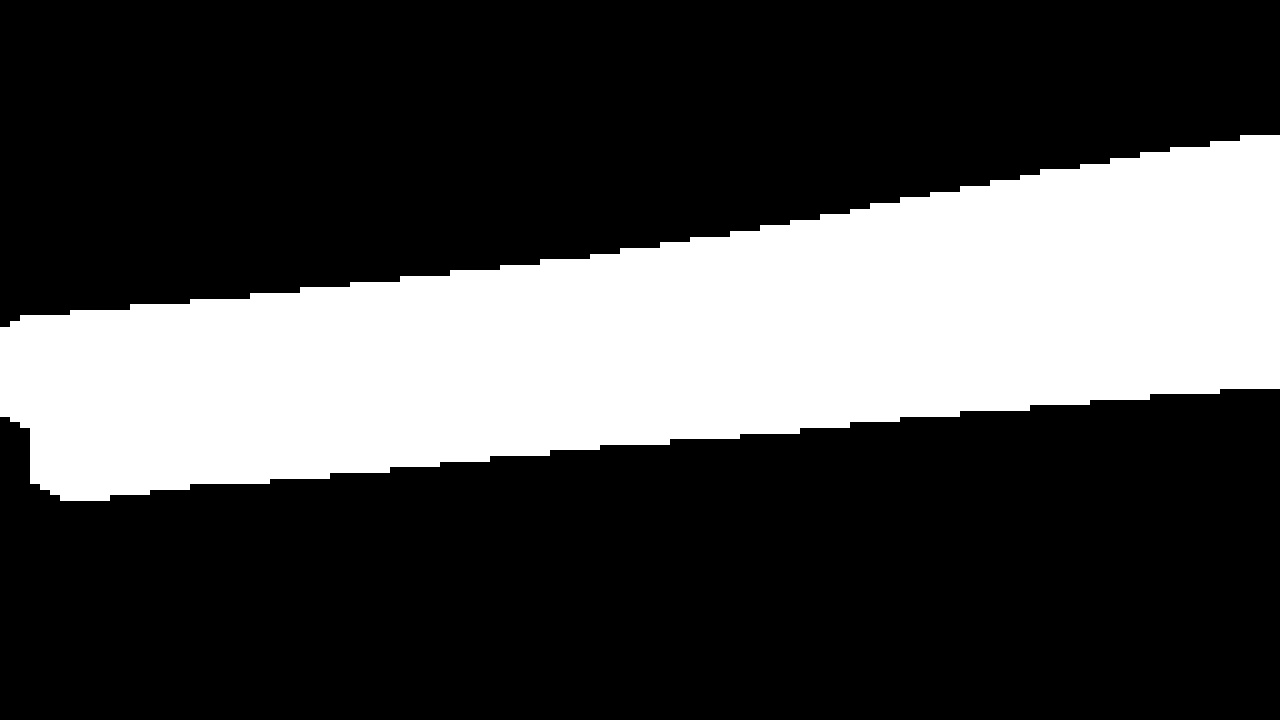Turbine: (5, 124, 1271, 531)
